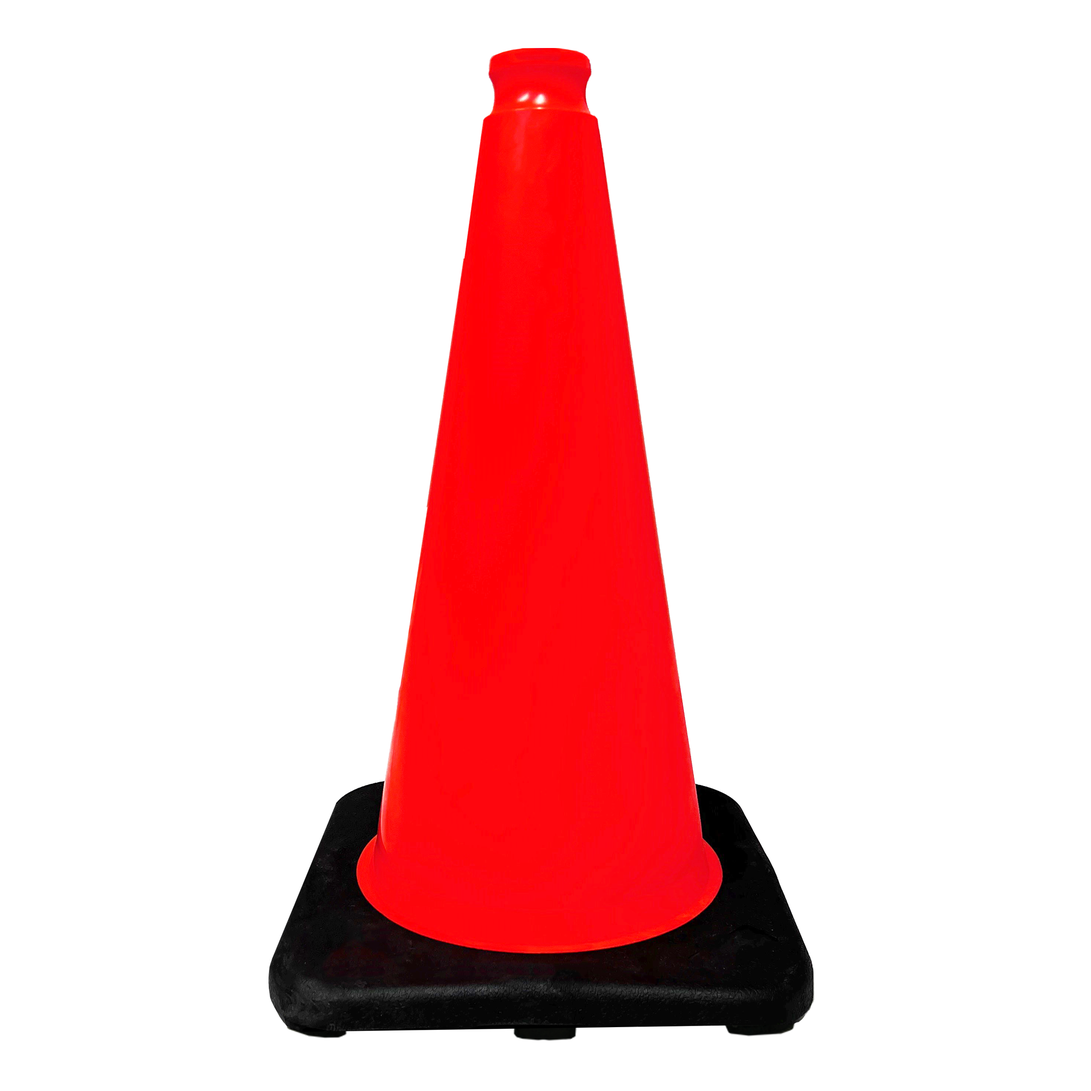Road_cone: (234, 36, 839, 1072)
